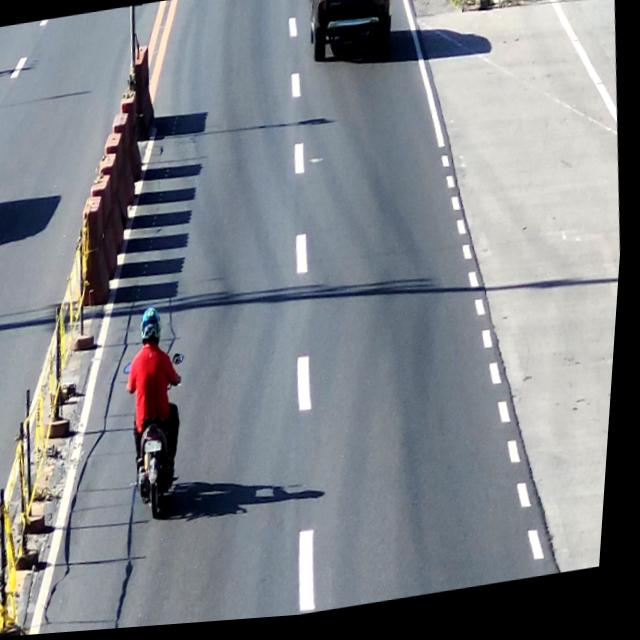Car: (302, 0, 403, 72)
License-Plate: (341, 0, 370, 2)
Motorcycle: (120, 303, 210, 527)
